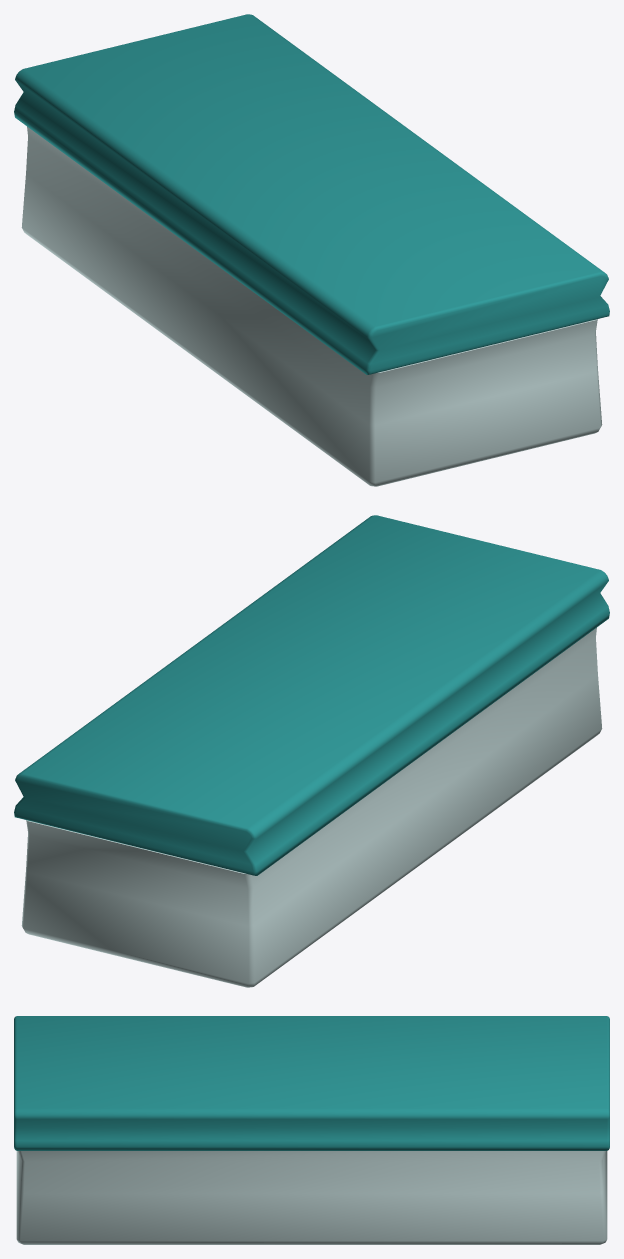
Rendered from SM_CEraser.FBX.
The picture shows the model from 3 angles, top to bottom: view 1: azimuth 30°, elevation 25°; view 2: azimuth 150°, elevation 25°; view 3: azimuth 270°, elevation 25°; orthographic projection. The views are drawn at different scales.
Visible parts, largest first — view 1: SM_CEraser; view 2: SM_CEraser; view 3: SM_CEraser.
Part boxes in pixels (x1,y1,x2,y2): SM_CEraser: (14, 14, 609, 486); SM_CEraser: (14, 515, 609, 987); SM_CEraser: (14, 1016, 609, 1244).
Size of what is drawn, in the model's own units: 98.76 by 63.55 by 249.
